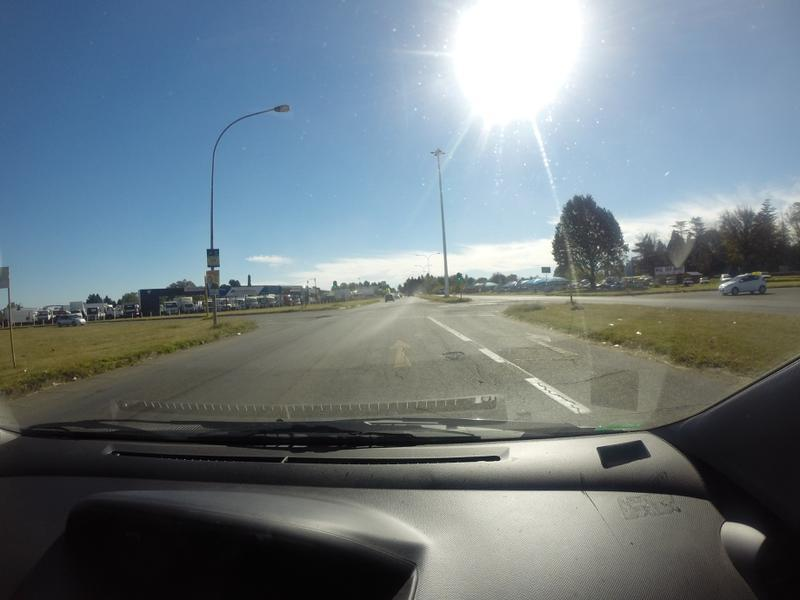pothole: (442, 349, 467, 364)
